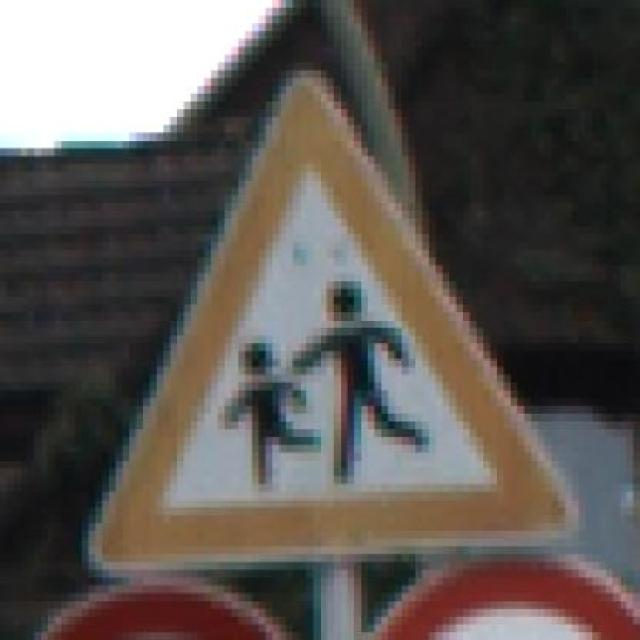Beware of children: (75, 47, 593, 562)
